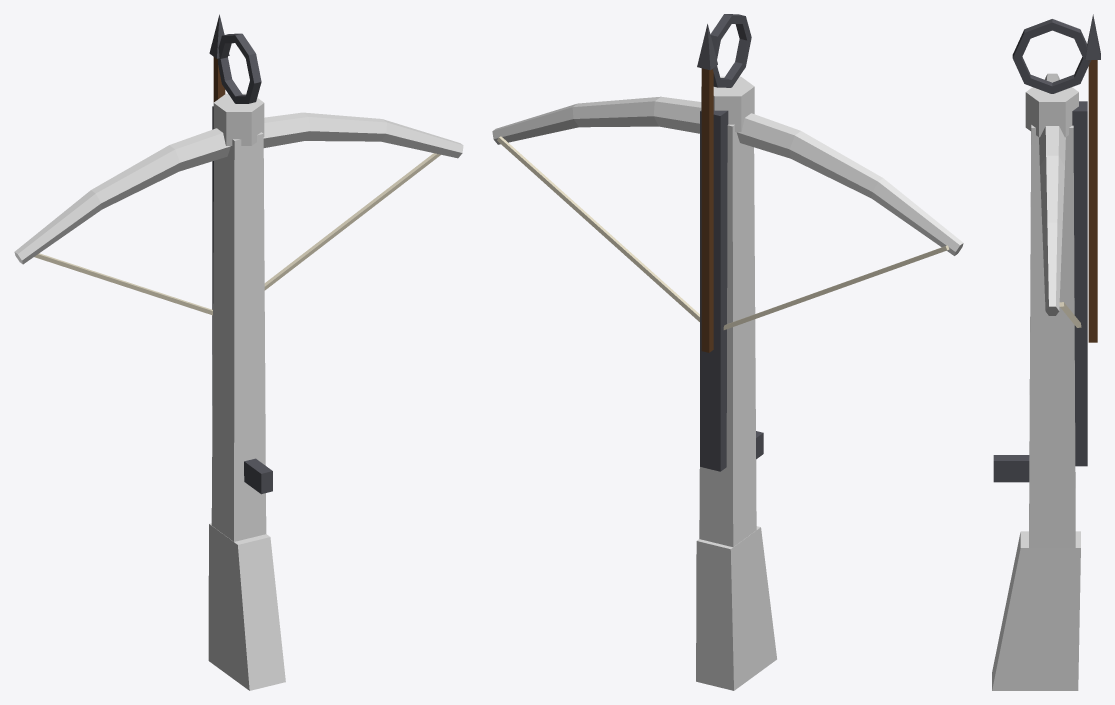
The model's file is weapon_crossbow.glb.
3 renders of one model, left to right at view 1: azimuth 30°, elevation 25°; view 2: azimuth 150°, elevation 25°; view 3: azimuth 270°, elevation 25°, orthographic. The views are drawn at different scales.
Parts seen in each view (by area): view 1: weapon_crossbow; view 2: weapon_crossbow; view 3: weapon_crossbow.
Boxes of the visible parts, bbox=[...] form: weapon_crossbow: bbox=[14, 14, 463, 690]; weapon_crossbow: bbox=[492, 14, 963, 690]; weapon_crossbow: bbox=[992, 14, 1100, 690].
Bounding box in the file's own units: 0.6883 × 0.94 × 0.1389.
